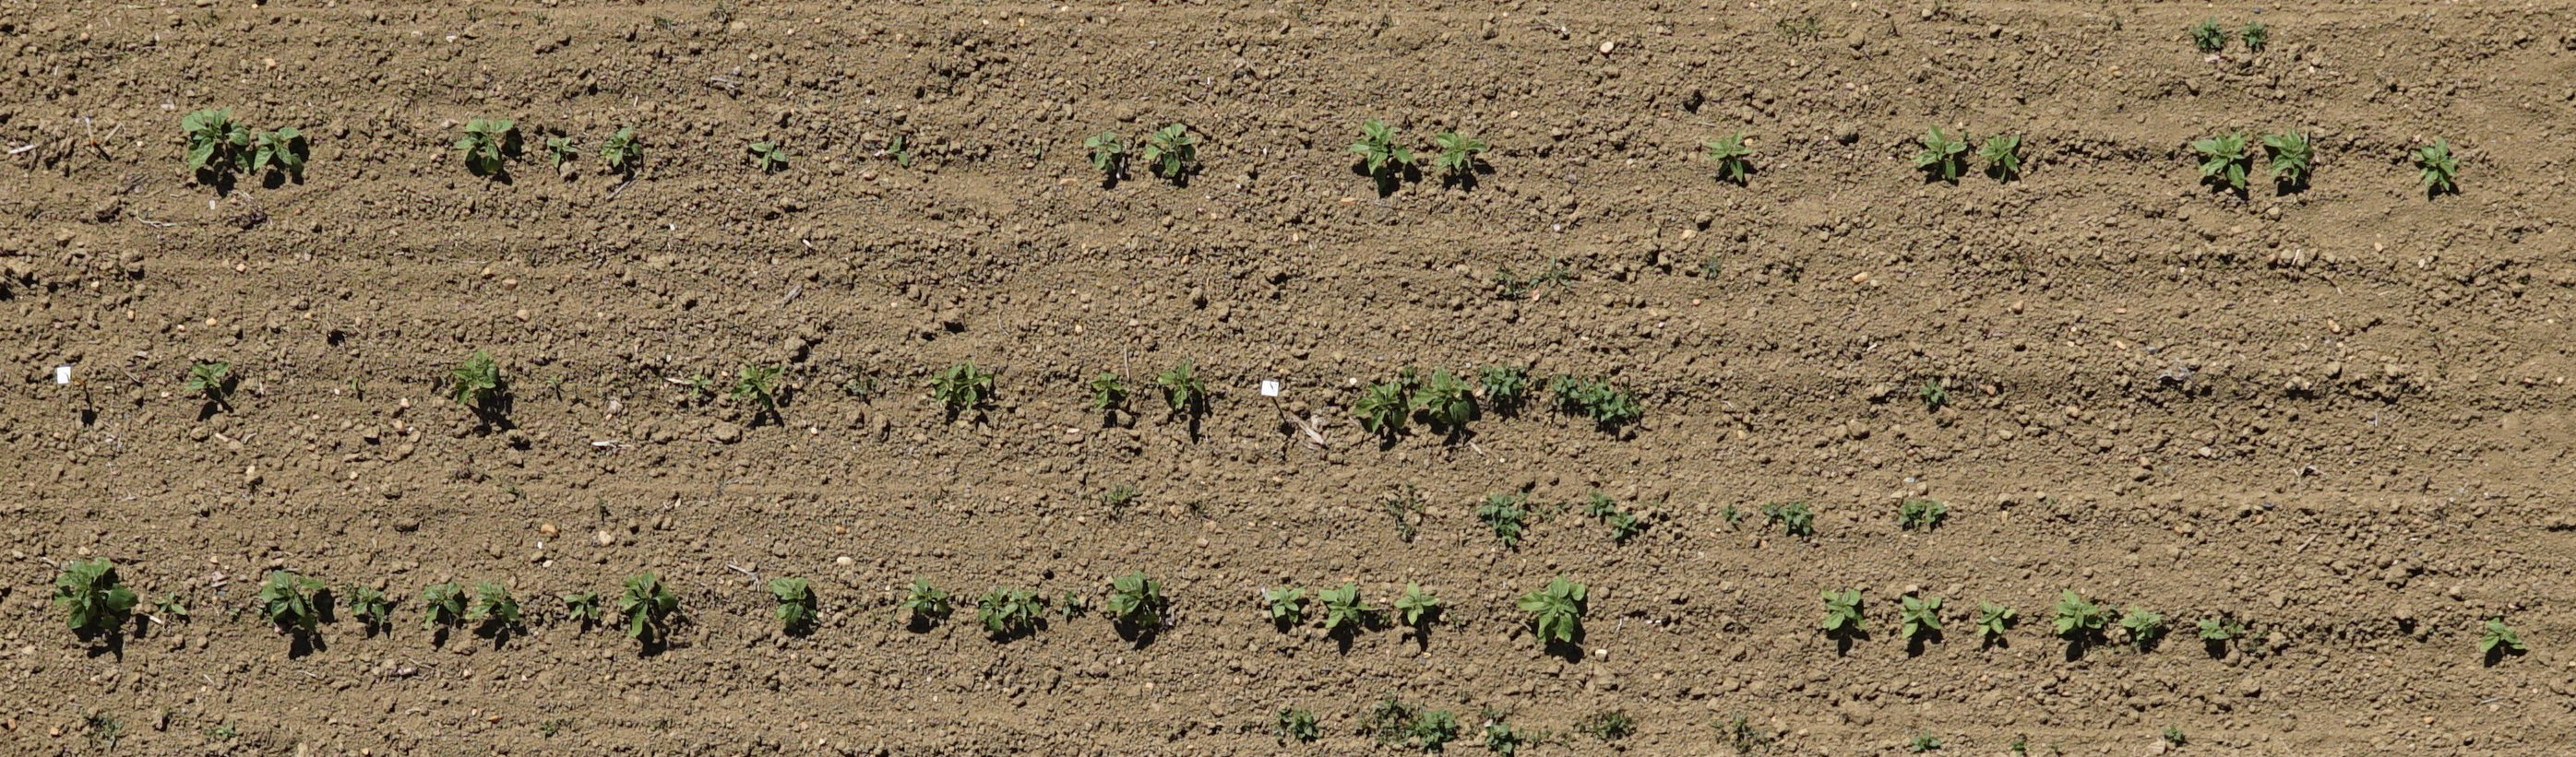spike: (49, 557, 138, 634), (179, 100, 250, 167), (1518, 575, 1590, 640), (255, 565, 325, 631), (616, 563, 677, 639), (453, 110, 521, 177), (1416, 361, 1480, 432), (1349, 115, 1411, 177), (1106, 563, 1168, 624), (2196, 128, 2252, 192), (1914, 118, 1968, 184), (1354, 376, 1411, 435), (1143, 117, 1199, 177), (250, 118, 304, 179), (767, 571, 821, 631), (2264, 125, 2313, 189), (1319, 576, 1373, 634), (447, 351, 498, 411), (1433, 123, 1487, 174), (1707, 126, 1755, 184), (1157, 360, 1207, 412), (417, 575, 465, 627), (2418, 133, 2459, 192), (471, 581, 521, 631), (1822, 583, 1866, 634), (1899, 590, 1944, 639), (2054, 591, 2103, 634), (733, 361, 779, 406), (2477, 612, 2520, 660), (348, 580, 391, 627), (1981, 130, 2022, 179), (1396, 578, 1437, 626), (953, 358, 992, 407), (600, 123, 641, 167), (1477, 366, 1526, 402), (2123, 603, 2162, 645), (1267, 580, 1304, 624), (1084, 125, 1120, 171), (904, 576, 945, 616), (189, 356, 227, 399), (1975, 598, 2011, 639), (978, 588, 1012, 629), (1600, 389, 1641, 422), (1007, 590, 1042, 627), (930, 365, 963, 402), (1091, 368, 1122, 407), (565, 586, 600, 621), (751, 136, 785, 169), (1579, 381, 1612, 415), (545, 131, 573, 167), (2198, 616, 2226, 645), (1556, 376, 1582, 407), (885, 133, 910, 166), (1920, 383, 1948, 411), (156, 591, 184, 617), (1056, 590, 1079, 619), (687, 371, 710, 396), (545, 373, 563, 392), (2221, 621, 2244, 634), (215, 723, 235, 737)
